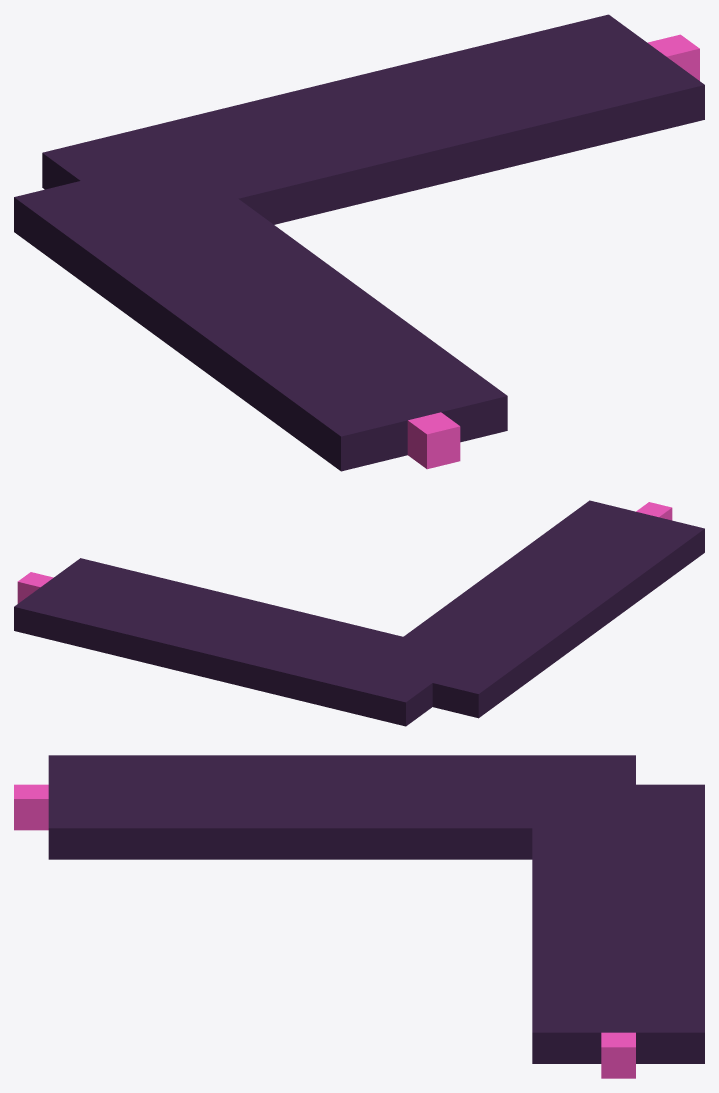
Rendered from vox_boom_war.glb.
The picture shows the model from 3 angles, top to bottom: view 1: azimuth 30°, elevation 25°; view 2: azimuth 150°, elevation 25°; view 3: azimuth 270°, elevation 25°; orthographic projection. The views are drawn at different scales.
Parts seen in each view (by area): view 1: vox_boom_war; view 2: vox_boom_war; view 3: vox_boom_war.
Boxes of the visible parts, x1,y1,x2,y2 form: vox_boom_war: [14, 14, 704, 471]; vox_boom_war: [14, 500, 704, 726]; vox_boom_war: [14, 755, 704, 1078].
Bounding box in the file's own units: 0.4 × 0.02 × 0.4.
